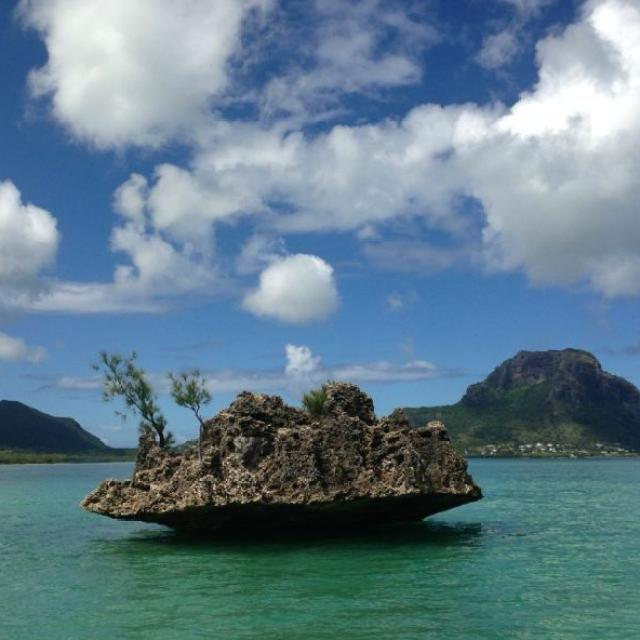island: (385, 332, 640, 465), (0, 386, 150, 464)
